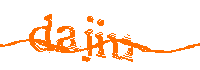a: (56, 24, 77, 54)
d: (29, 12, 55, 52)
i: (94, 19, 108, 59)
j: (82, 14, 94, 65)
u: (108, 32, 135, 64)
